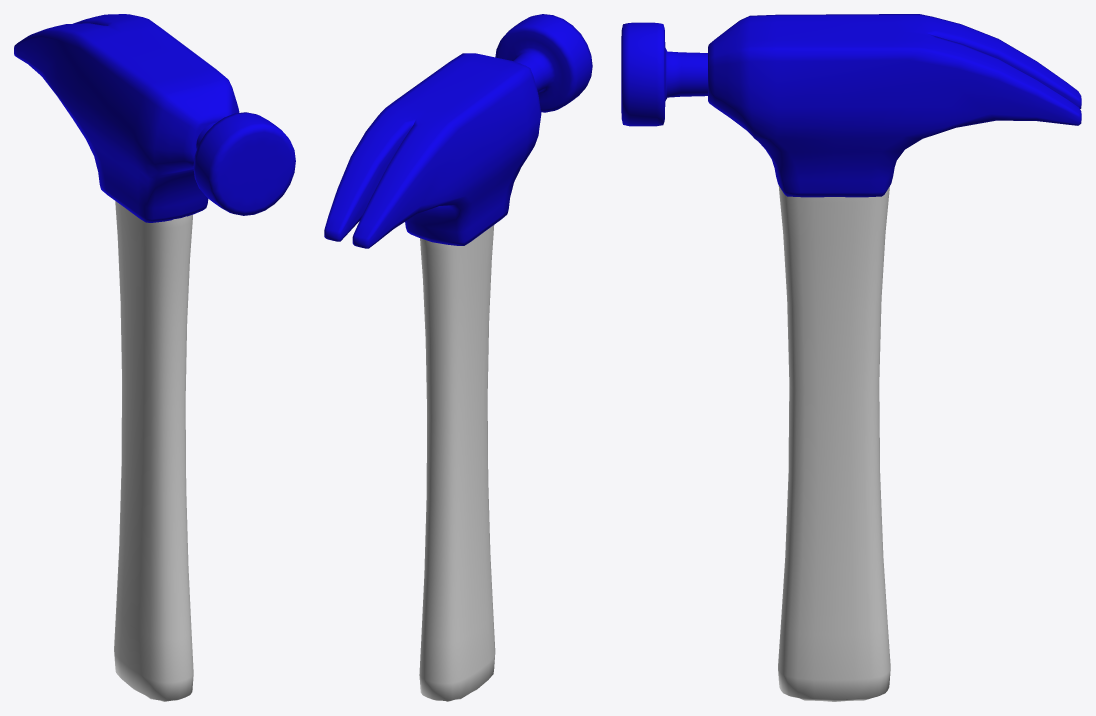
File: HammerFinal.fbx
The picture shows the model from 3 angles, left to right: view 1: azimuth 30°, elevation 25°; view 2: azimuth 150°, elevation 25°; view 3: azimuth 270°, elevation 25°; orthographic projection. The views are drawn at different scales.
Parts seen in each view (by area): view 1: Cube.001; view 2: Cube.001; view 3: Cube.001.
Boxes of the visible parts, x1,y1,x2,y2 form: Cube.001: (14,14,295,701); Cube.001: (324,14,592,701); Cube.001: (621,14,1081,701).
Bounding box in the file's own units: 60.97 × 389 × 244.
